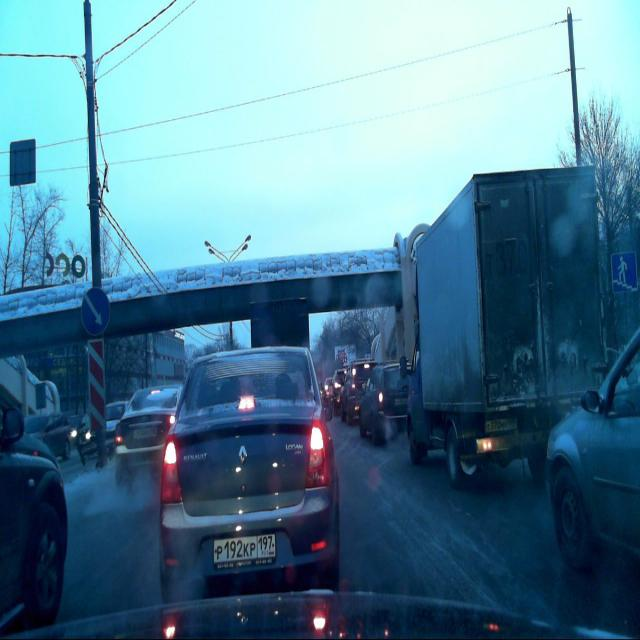object: (88, 340, 106, 435)
road sign: (610, 247, 638, 295)
